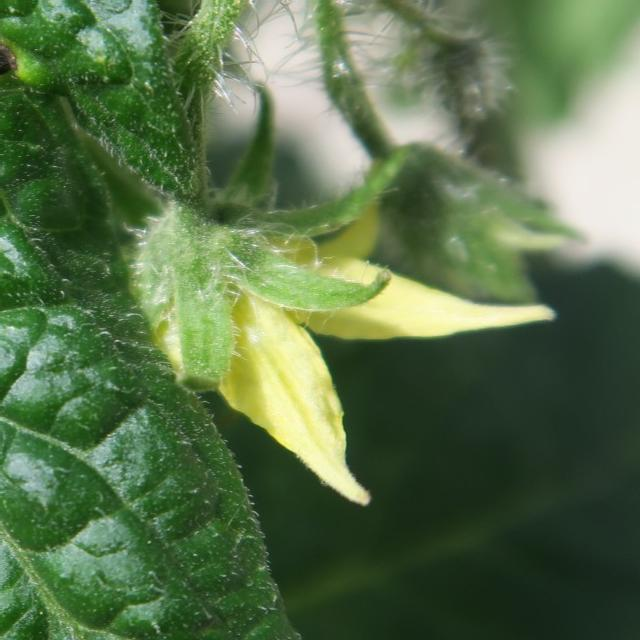Tomato leaf bacterial spot: (0, 0, 416, 640)
